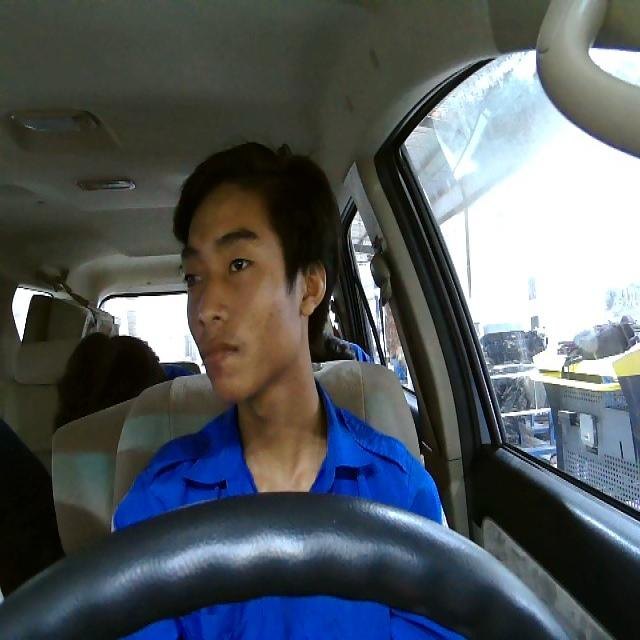seeing_left: (176, 180, 327, 404)
